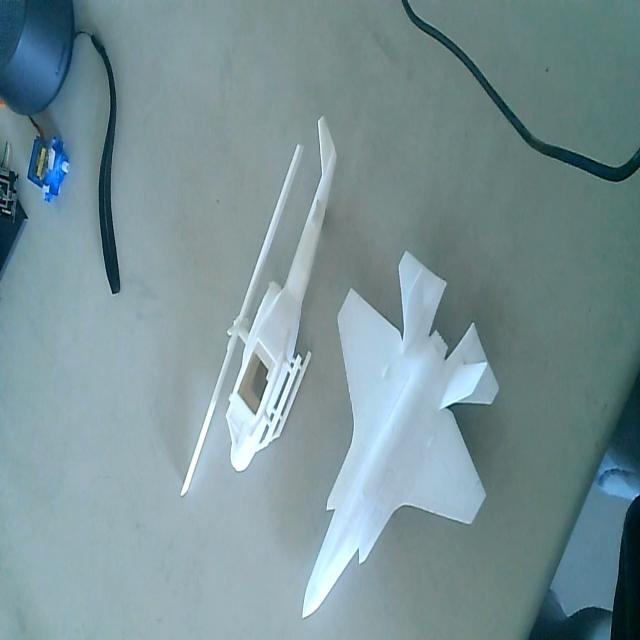Helicopter: (180, 119, 338, 482)
Jet: (299, 250, 502, 619)
